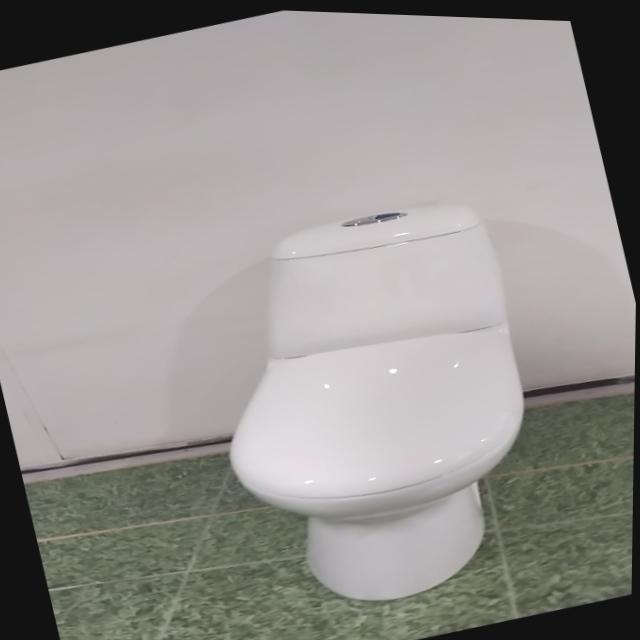toilet: (176, 176, 575, 632)
